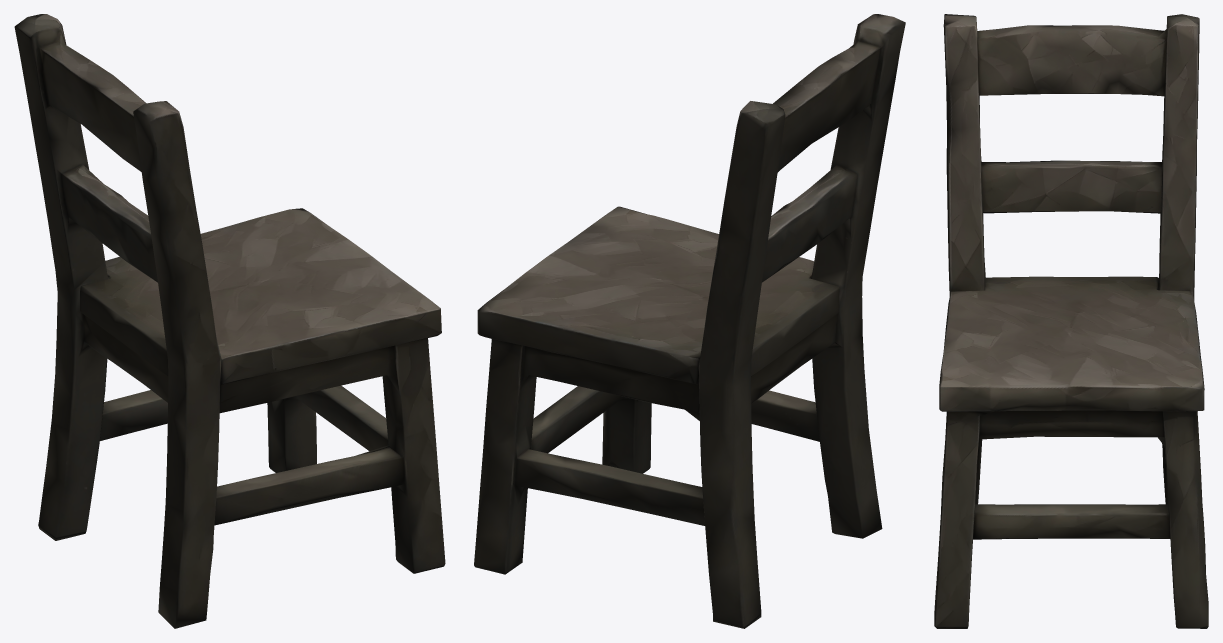
Rendered from wooden_chair_ladderback.glb.
3 renders of one model, left to right at view 1: azimuth 30°, elevation 25°; view 2: azimuth 150°, elevation 25°; view 3: azimuth 270°, elevation 25°, orthographic. The views are drawn at different scales.
Parts seen in each view (by area): view 1: tripo_node_01fdf00b-a87c-4c3d-bdf4-3b92776c24d8; view 2: tripo_node_01fdf00b-a87c-4c3d-bdf4-3b92776c24d8; view 3: tripo_node_01fdf00b-a87c-4c3d-bdf4-3b92776c24d8.
Part boxes in pixels (left/top/right/bottom): tripo_node_01fdf00b-a87c-4c3d-bdf4-3b92776c24d8: left=14, top=14, right=445, bottom=628; tripo_node_01fdf00b-a87c-4c3d-bdf4-3b92776c24d8: left=474, top=14, right=905, bottom=628; tripo_node_01fdf00b-a87c-4c3d-bdf4-3b92776c24d8: left=934, top=14, right=1208, bottom=628.
Bounding box in the file's own units: 0.5901 × 1 × 0.5116.
Materials: 1 (1 with a texture image).
